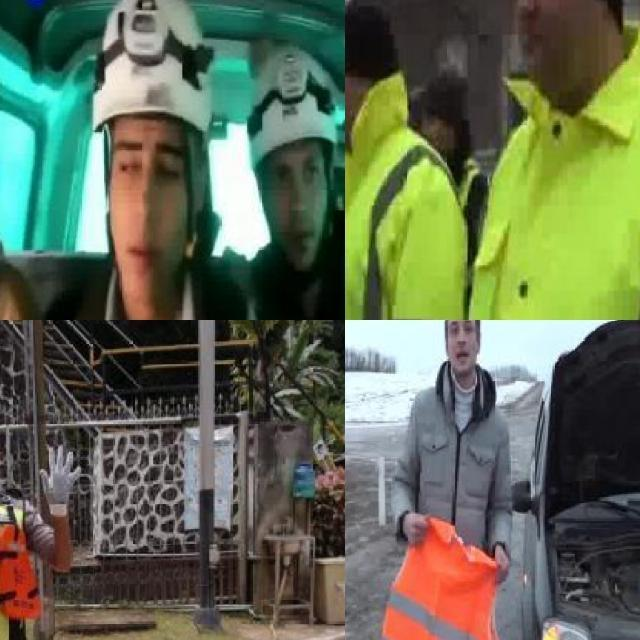apron: (37, 438, 85, 520)
